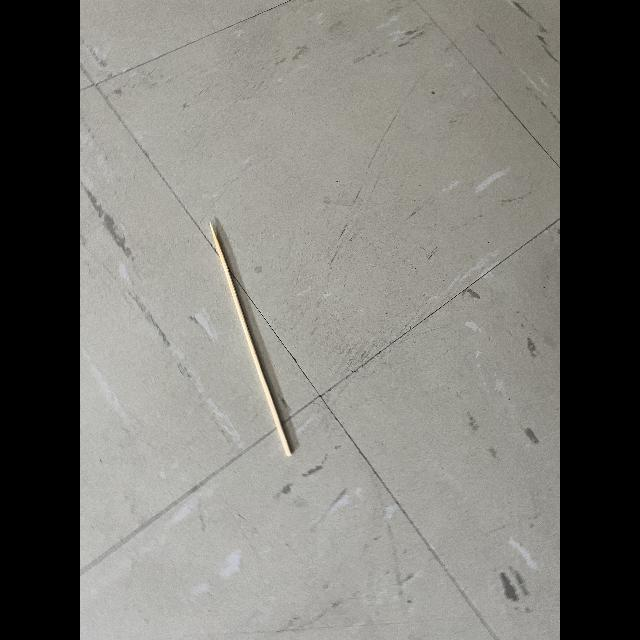stick: (198, 214, 306, 463)
